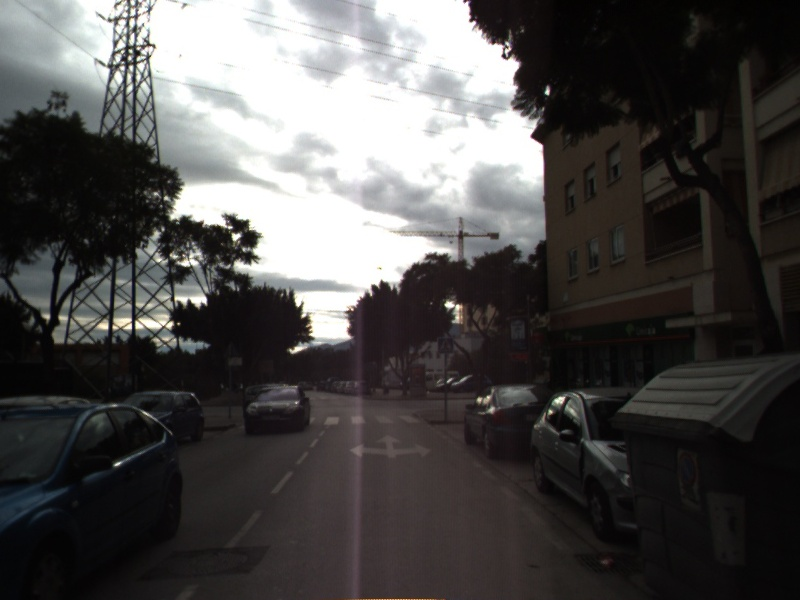STRAIGHT_LEFT_RIGHT: (347, 432, 435, 460)
